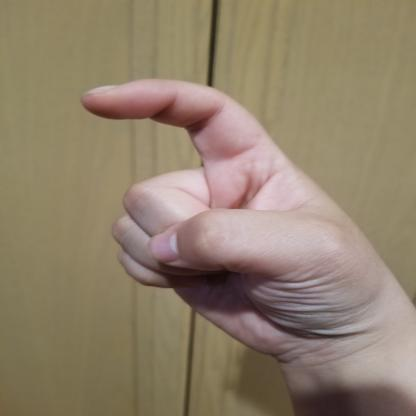X: (74, 75, 416, 362)
